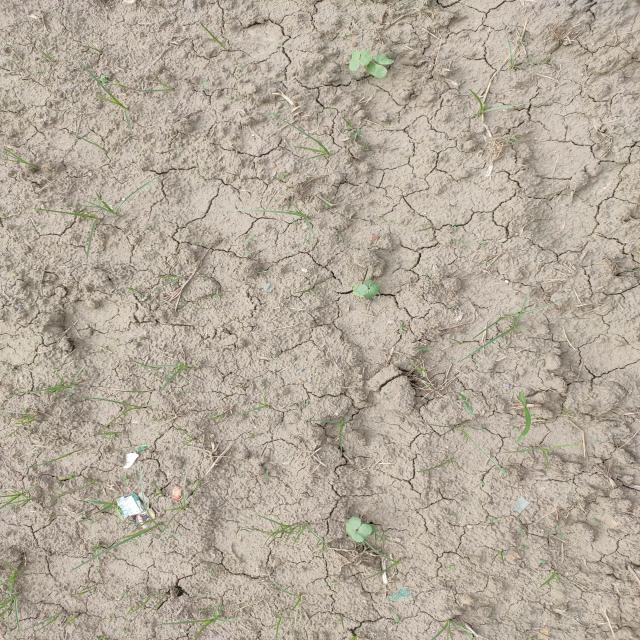seedling: (352, 523, 373, 543), (367, 61, 387, 78), (346, 516, 361, 537), (357, 284, 377, 298), (372, 53, 395, 65), (349, 49, 360, 71), (363, 280, 381, 292), (360, 50, 370, 65), (352, 285, 364, 297)
